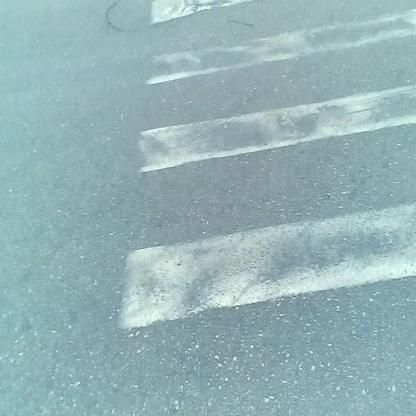crosswalk: (110, 5, 416, 349)
